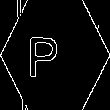P_N: (39, 30, 71, 80)
